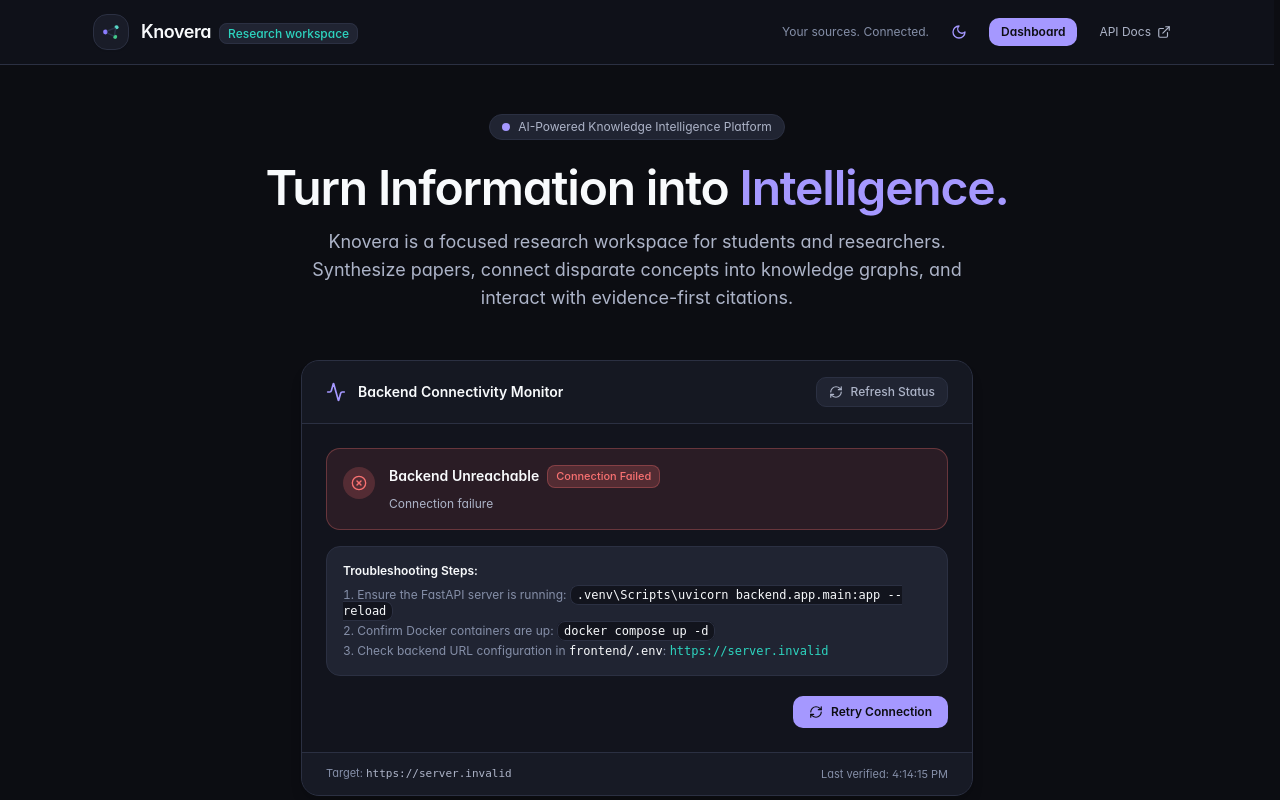
Test case: LandingView Component › handles manual retry button click
Check: the element with test id "status-error" is shown, box [326,448,948,728]
What coordinates should you click on to do the following:
click the button "Retry Connection"
I would click on:
 (870, 712)
Its box is [793,696,948,728].
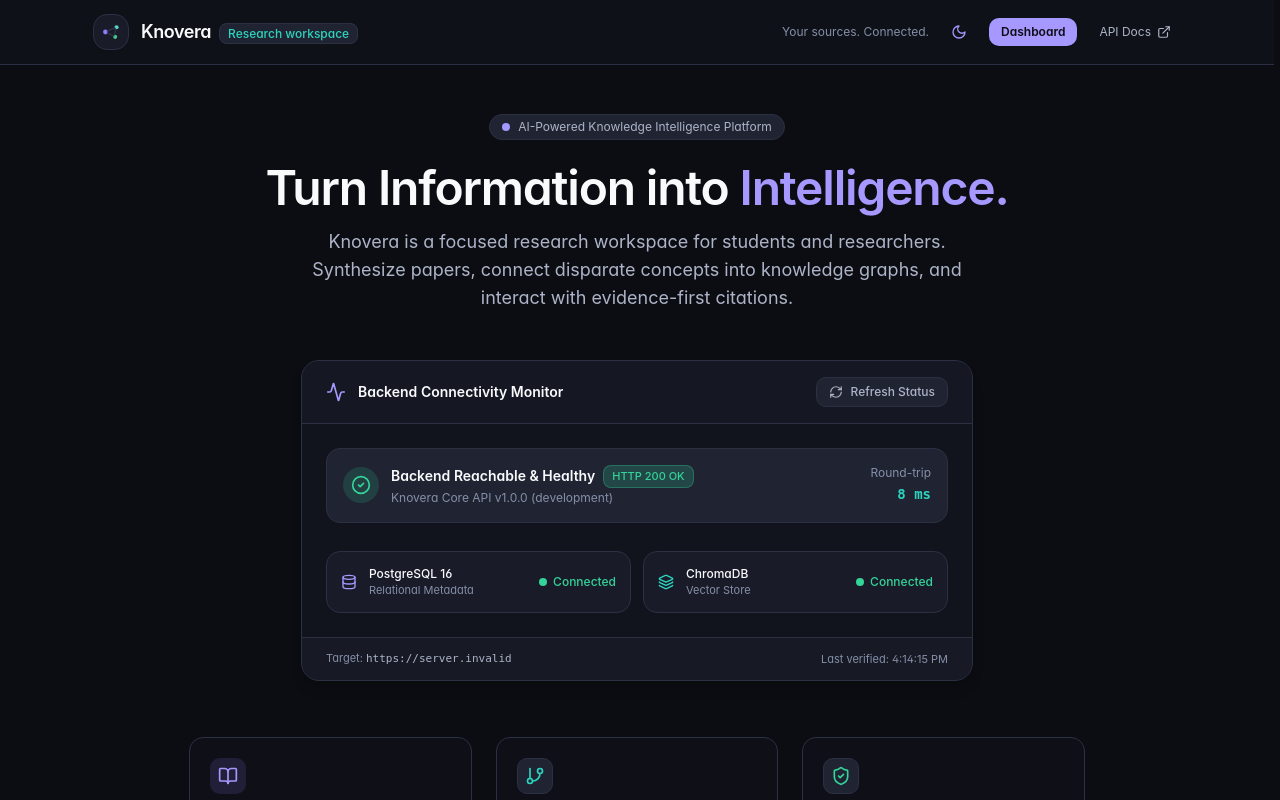
Check: the element with test id "status-success" is shown, box [326,448,948,613]
